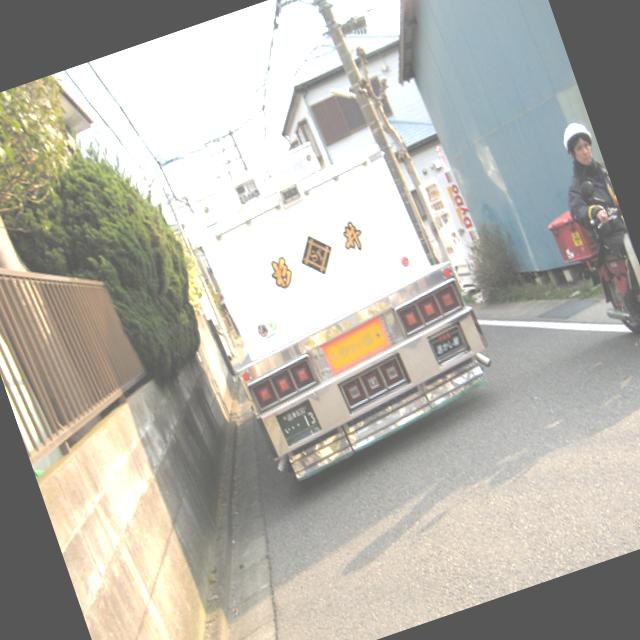Vehicle: (151, 78, 508, 494), (537, 173, 640, 348)
